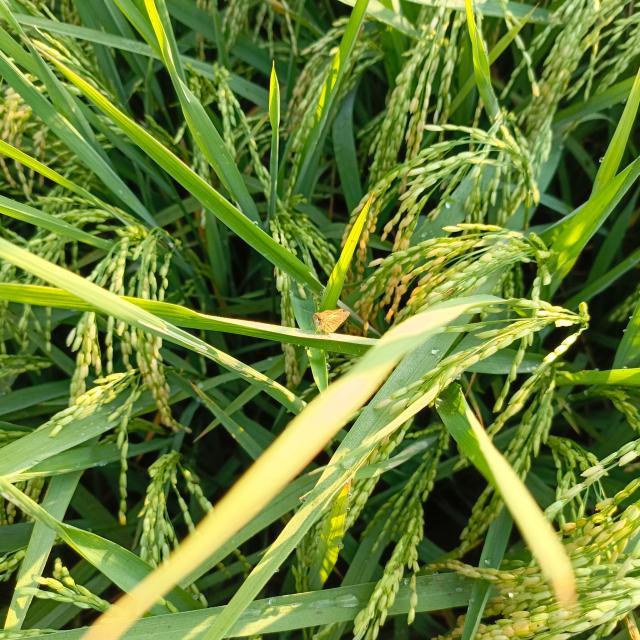Brown spot: (268, 358, 402, 478), (170, 468, 268, 572), (468, 410, 549, 508), (510, 508, 582, 610), (84, 563, 170, 640)
brown plant hopper: (0, 473, 92, 549), (193, 307, 294, 348)
